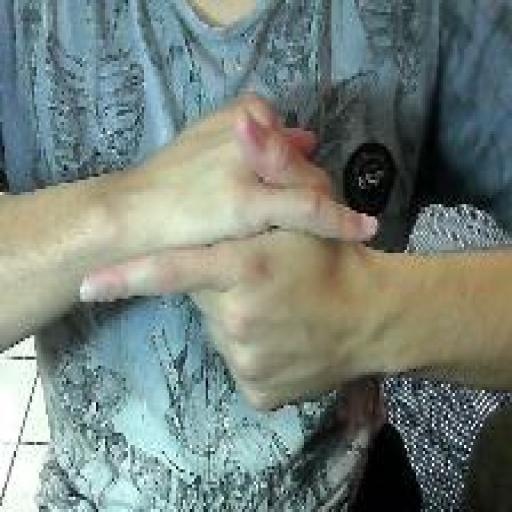U -hare-: (74, 84, 383, 419)
